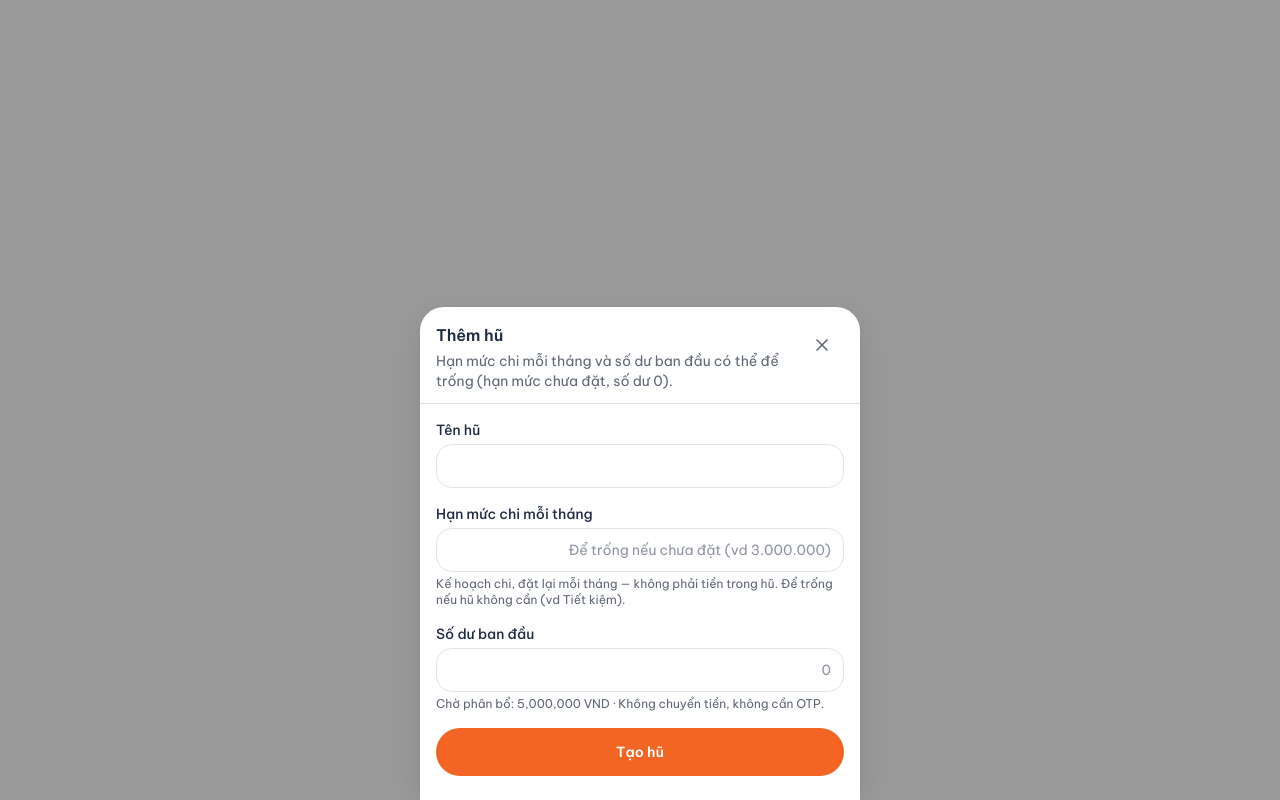
HuCreateSheet — create › a server refusal shows its reason, keeps the sheet open and the inputs
This screenshot has width=1280, height=800.
Type "Du lịch" into the field named "Tên hũ mới" at {"x": 640, "y": 466}, box [436,444,844,488]
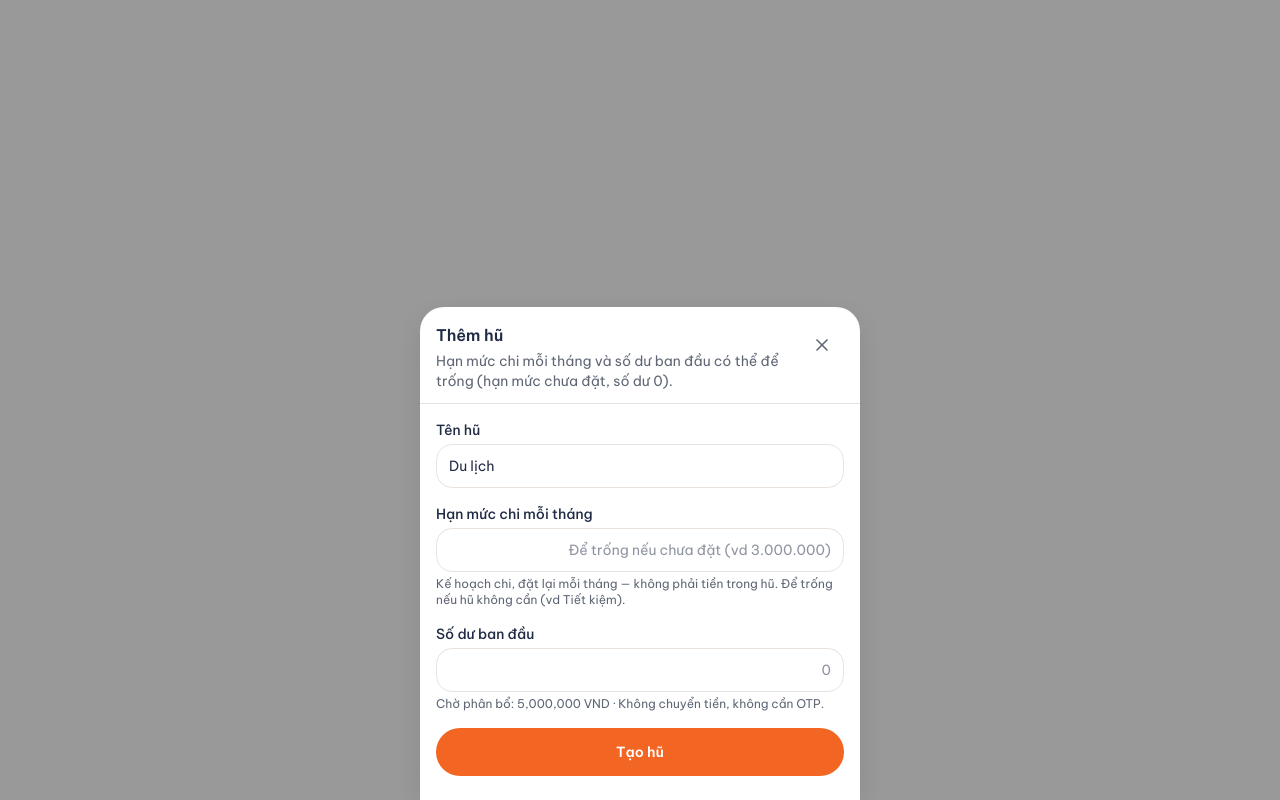
Type "2.000.000" into the field labelled "Hạn mức chi mỗi tháng" at {"x": 640, "y": 550}, box [436,528,844,572]
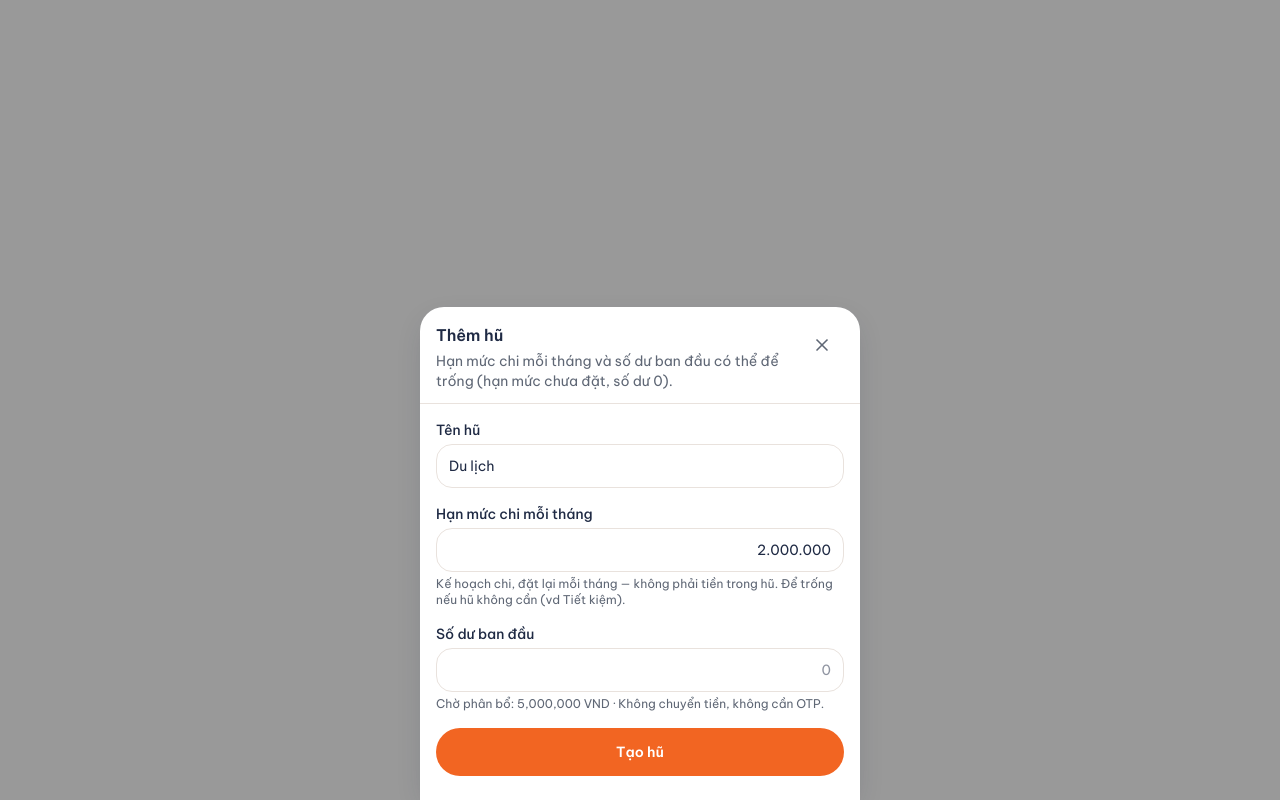
Type "1.000.000" into the field labelled "Số dư ban đầu" at {"x": 640, "y": 670}, box [436,648,844,692]
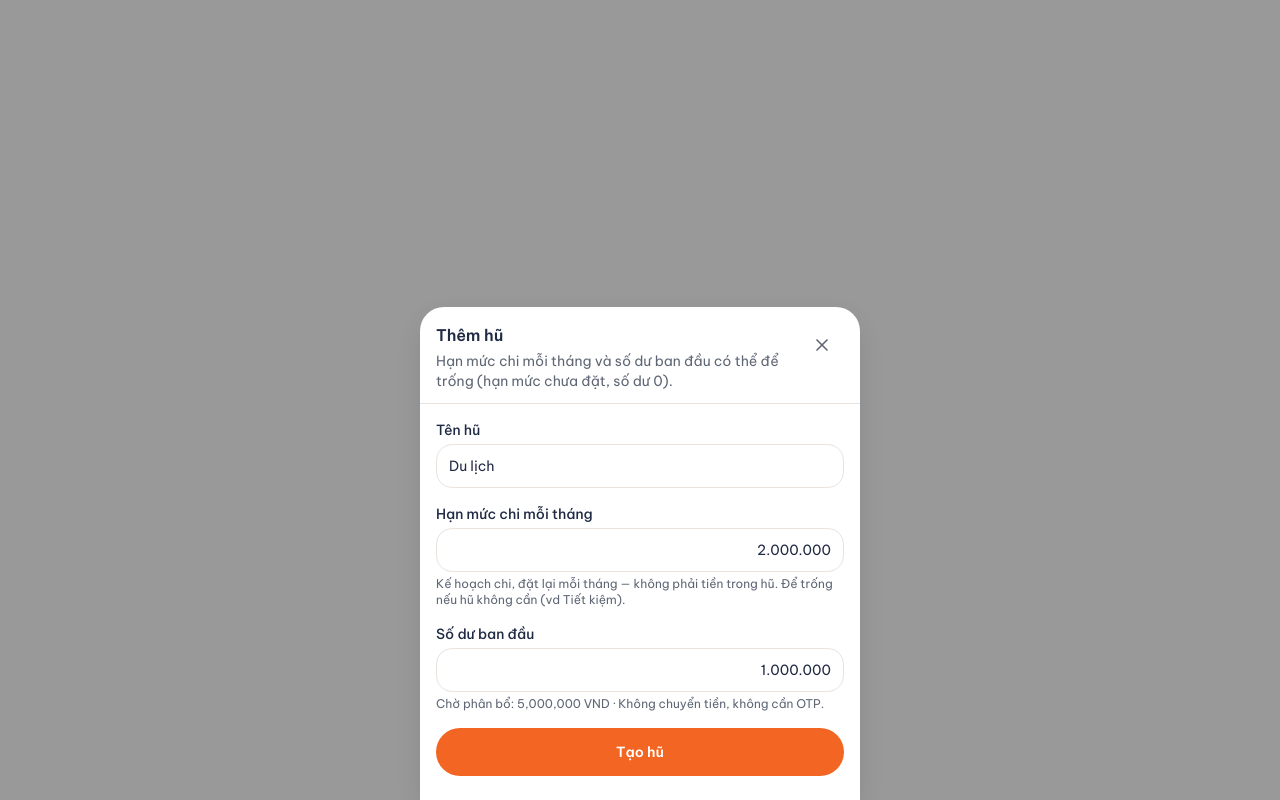
Click the button "Tạo hũ" at {"x": 640, "y": 752}, box [436,728,844,776]
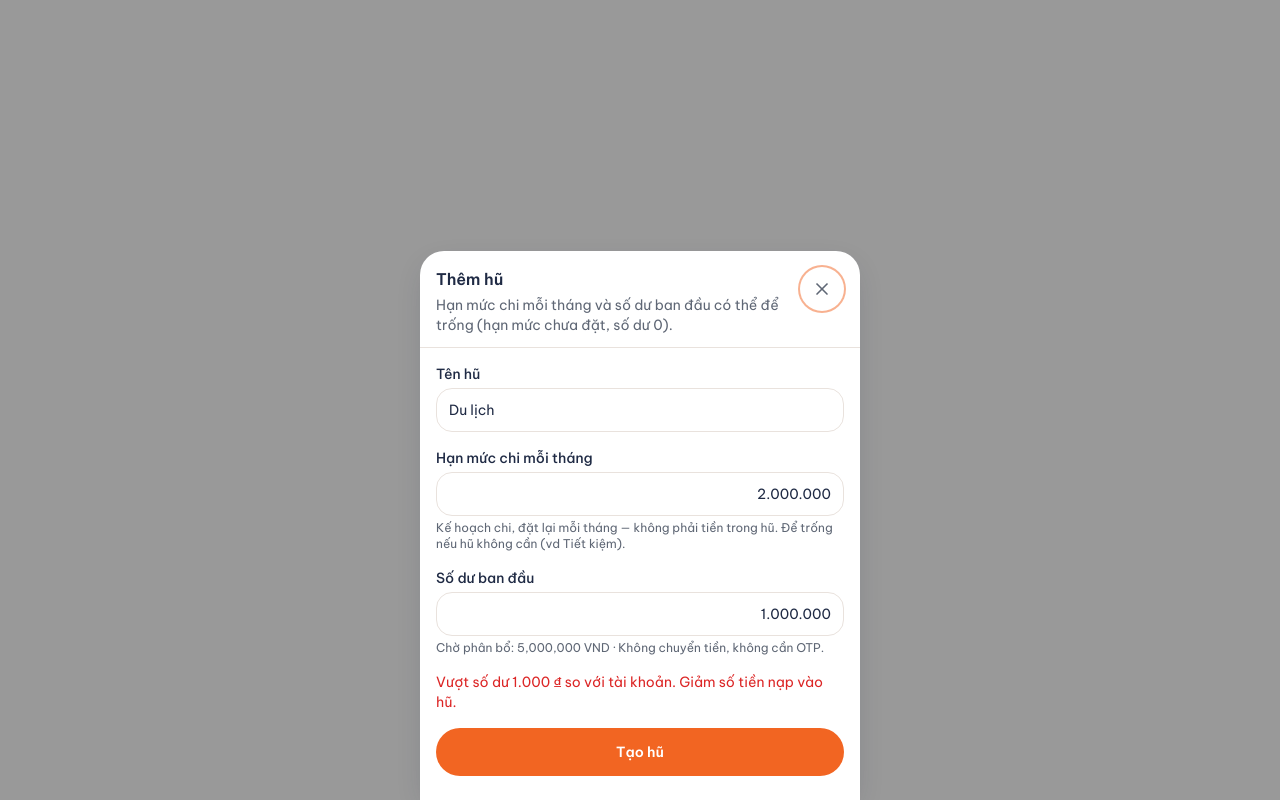
Expected: the message shows "Vượt số dư 1.000", [436,673,823,711]
